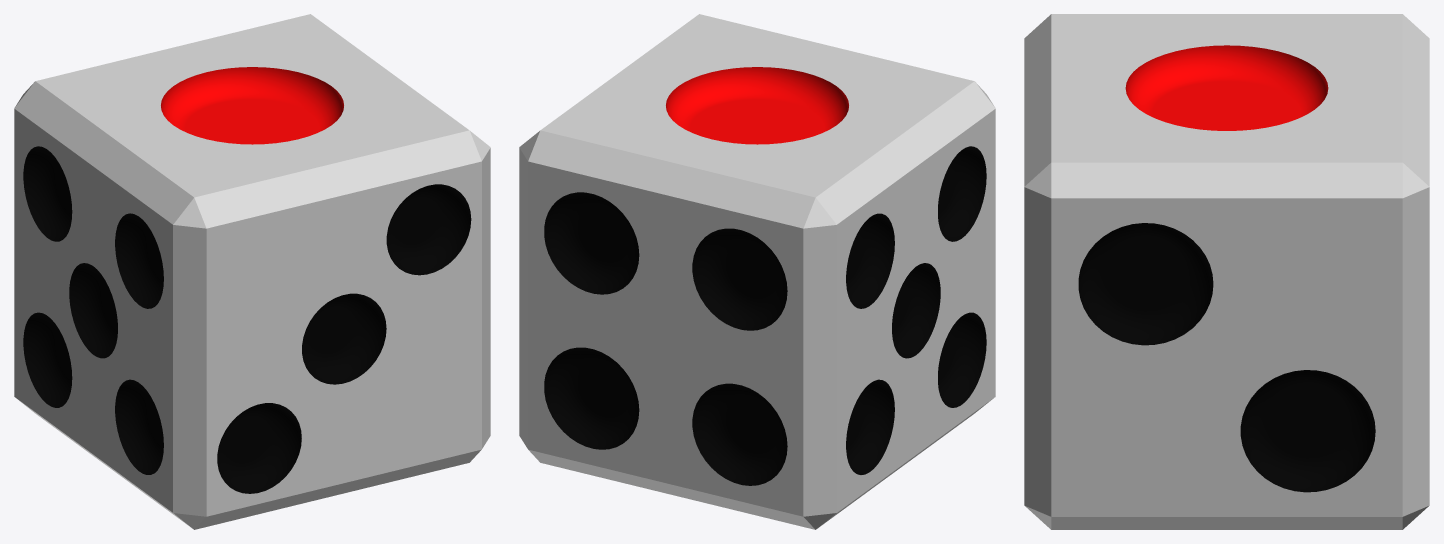
Rendered from saikoro.glb.
3 renders of one model, left to right at view 1: azimuth 30°, elevation 25°; view 2: azimuth 150°, elevation 25°; view 3: azimuth 270°, elevation 25°, orthographic. The views are drawn at different scales.
Visible parts, largest first — view 1: さいころ; view 2: さいころ; view 3: さいころ.
Boxes of the visible parts, bbox=[...] form: さいころ: bbox=[14, 14, 490, 529]; さいころ: bbox=[519, 14, 995, 529]; さいころ: bbox=[1024, 14, 1429, 529].
Size of the model in its own units: 0.03 by 0.03 by 0.03.
